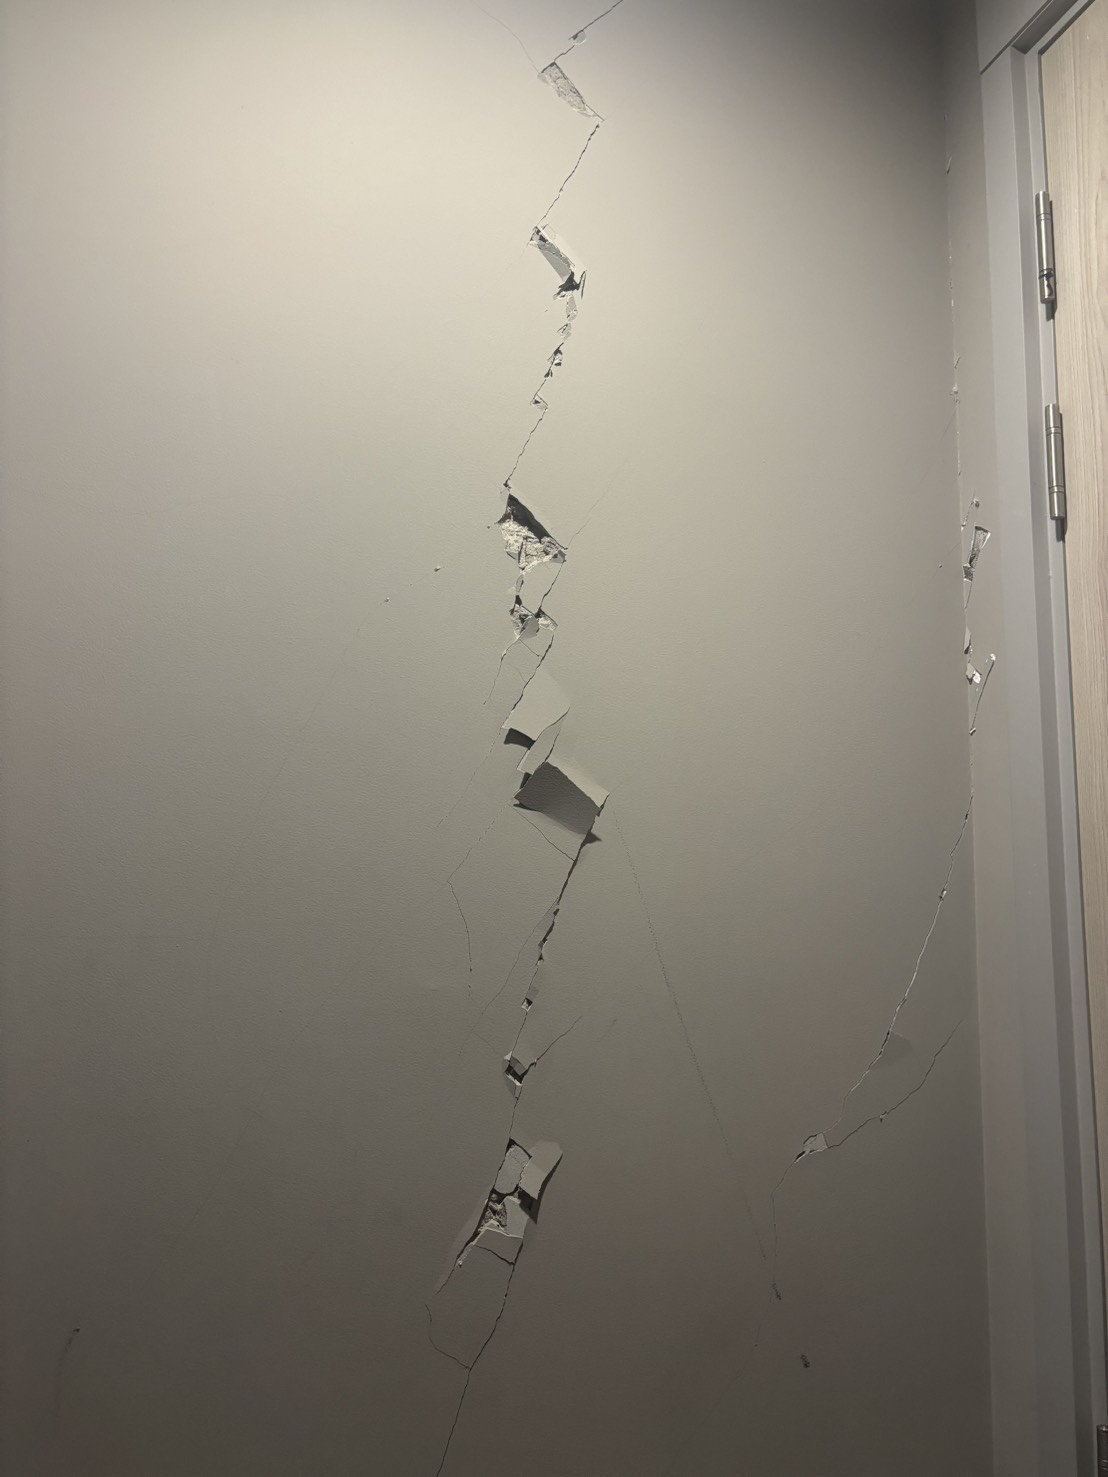Medium: (422, 121, 615, 1435)
